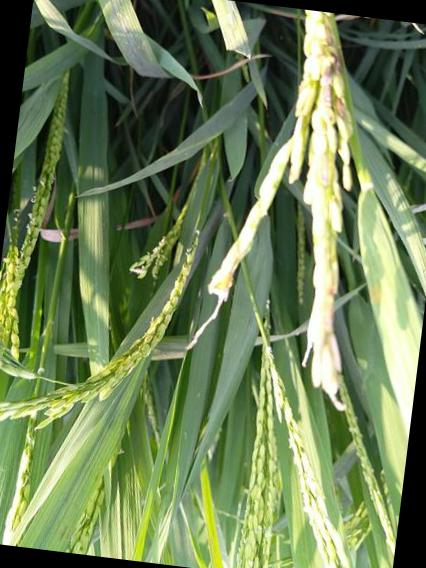Panicle Blight: (302, 230, 345, 410), (295, 16, 354, 140)
